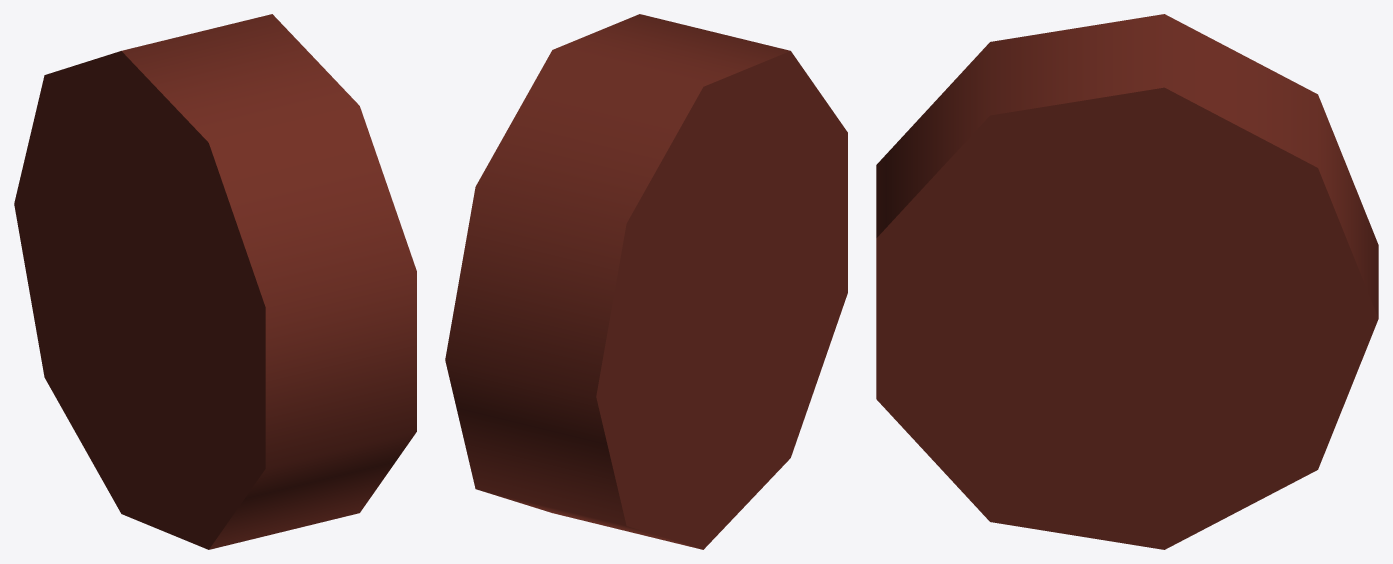
File: Pipe_1_E_4.fbx
3 views of the same model, side by side, from view 1: azimuth 30°, elevation 25°; view 2: azimuth 150°, elevation 25°; view 3: azimuth 270°, elevation 25° (orthographic).
Visible parts, largest first — view 1: Pipe_1_E_4; view 2: Pipe_1_E_4; view 3: Pipe_1_E_4.
Boxes of the visible parts, x1,y1,x2,y2 form: Pipe_1_E_4: [14, 14, 416, 549]; Pipe_1_E_4: [445, 14, 847, 549]; Pipe_1_E_4: [876, 14, 1378, 549].
Size of the model in its own units: 10.28 by 30.12 by 29.66.
